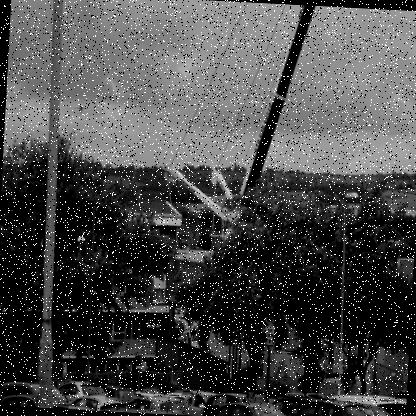Car: (86, 362, 191, 414), (283, 376, 407, 415), (0, 377, 70, 410), (318, 389, 394, 415), (210, 393, 299, 415), (128, 386, 192, 414), (50, 376, 106, 406), (201, 388, 254, 415), (173, 387, 222, 415), (0, 386, 52, 408), (364, 389, 407, 415), (89, 380, 140, 401), (328, 390, 394, 404), (28, 397, 97, 410), (167, 388, 182, 396)
